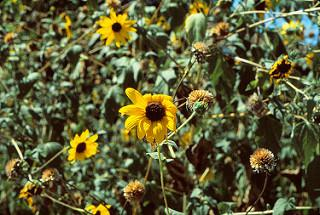sunflower: (121, 86, 177, 144), (97, 12, 136, 47), (67, 129, 98, 162), (90, 205, 111, 215)
